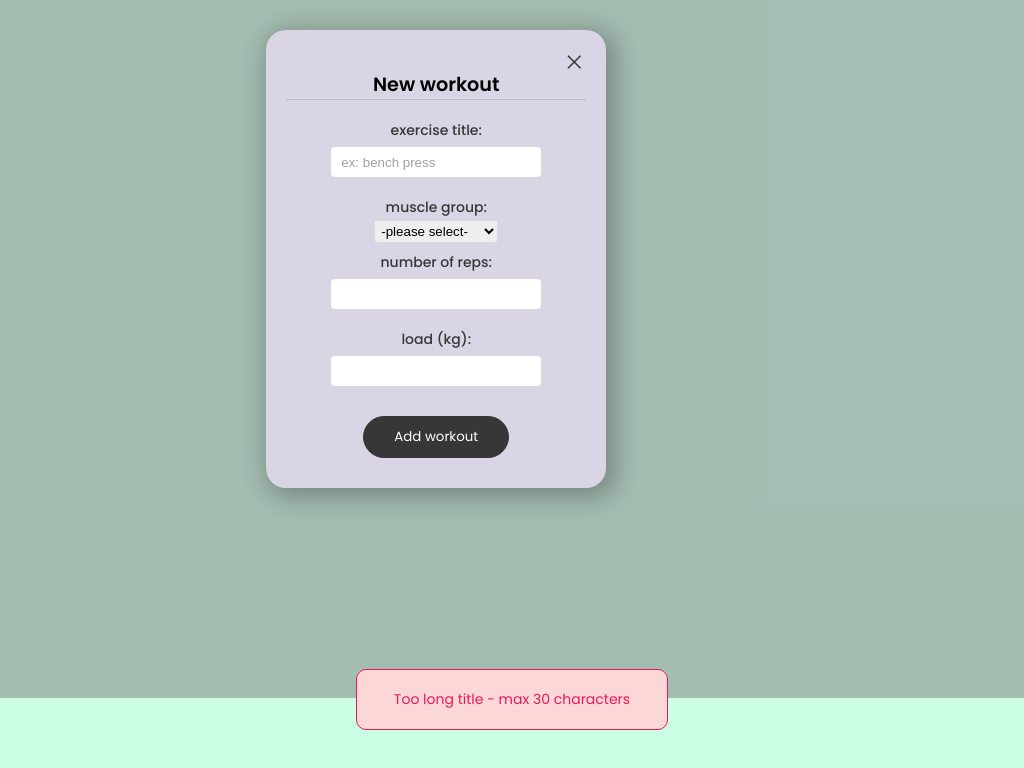
Test case: <WorkoutForm/> › should signal input error if title contains non-alphabetic characters
Type "66768^&^*&%<>*" into the field with test id "title" at coordinates (436, 162), box [331,147,541,177]
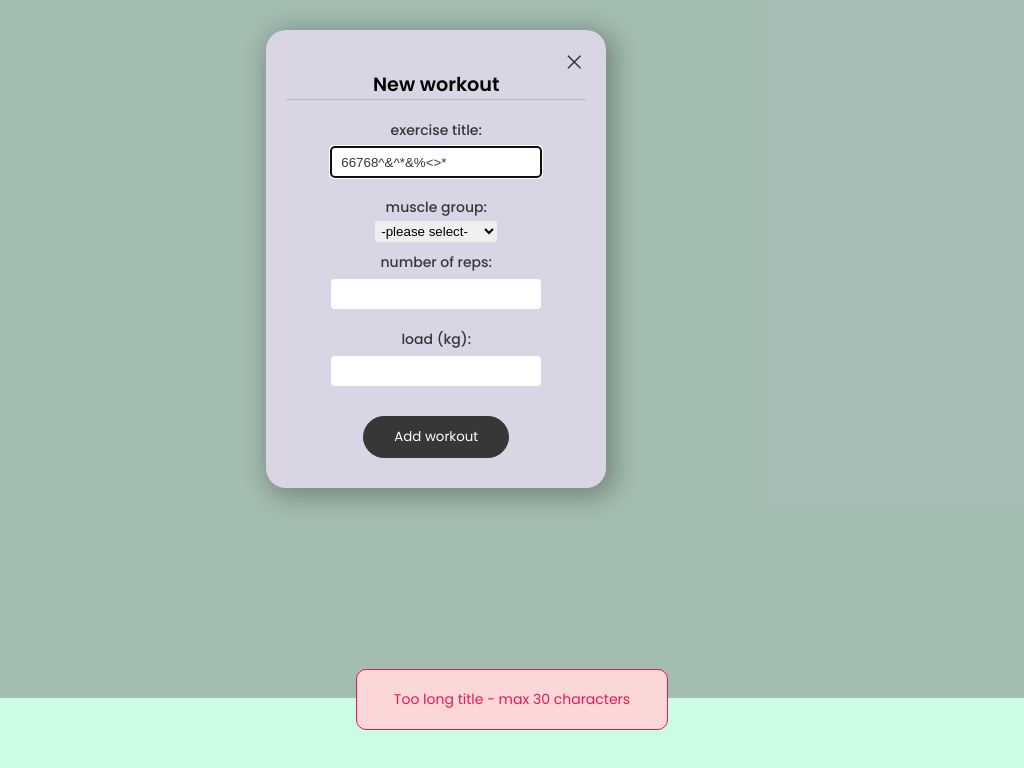
Select "biceps" in the dropdown with test id "muscle_group" at coordinates (436, 232), box [375,221,497,242]
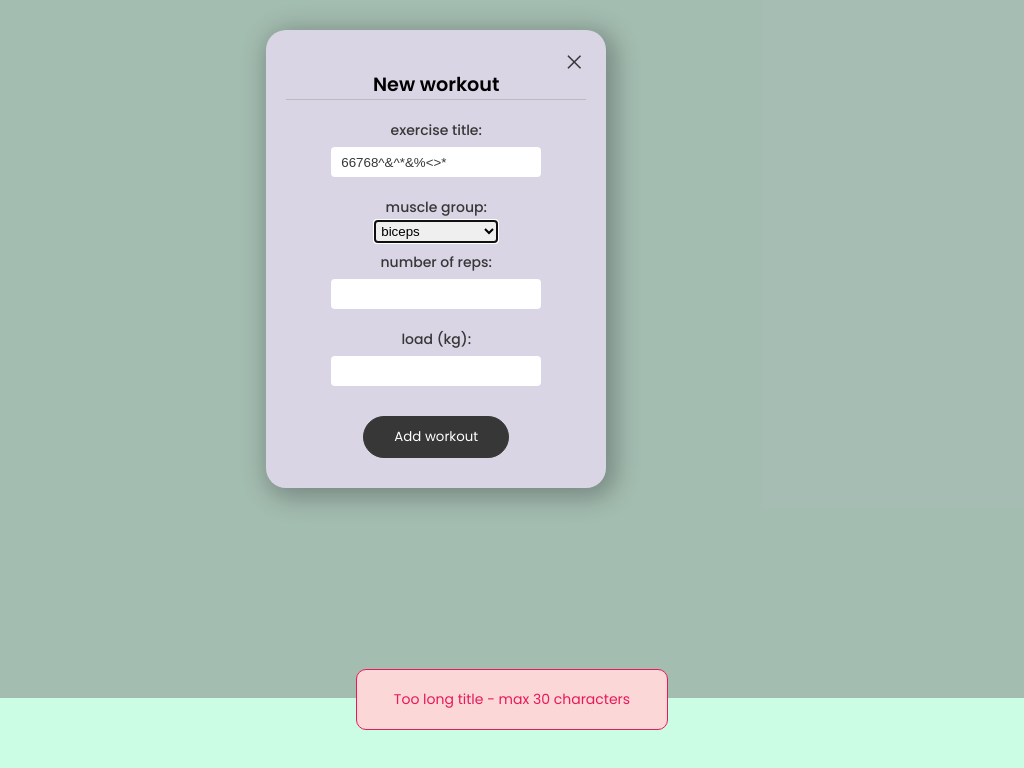
Type "22" into the number field with test id "reps" at coordinates (436, 294), box [331,279,541,309]
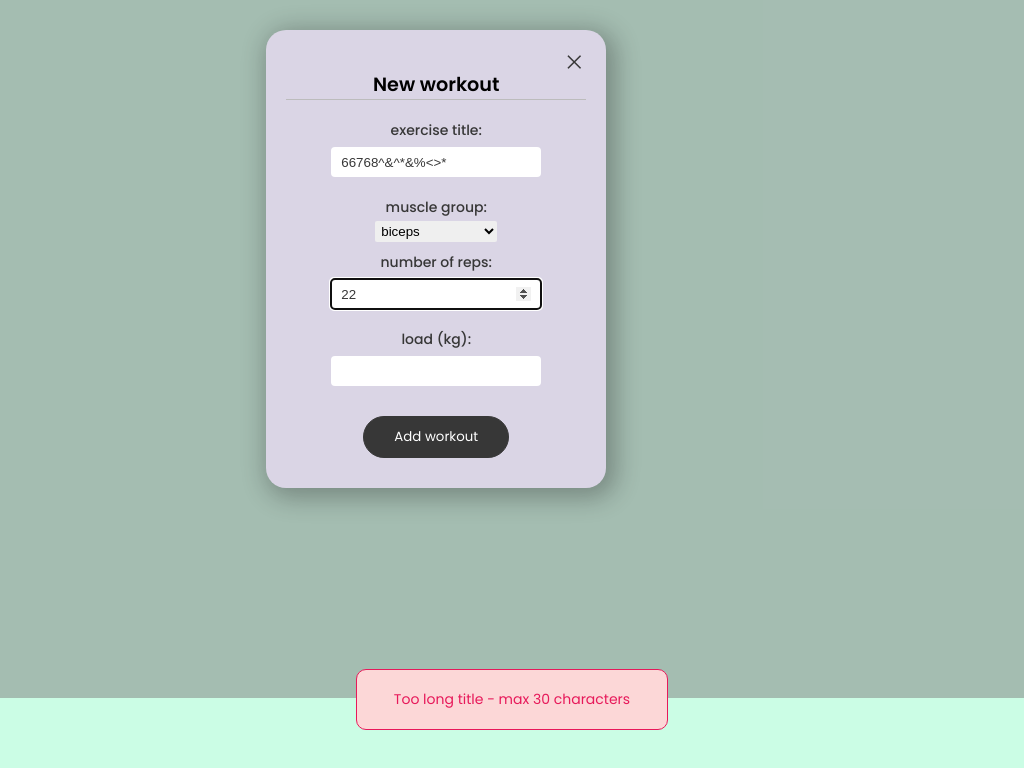
Type "22" into the number field with test id "load" at coordinates (436, 371), box [331,356,541,386]
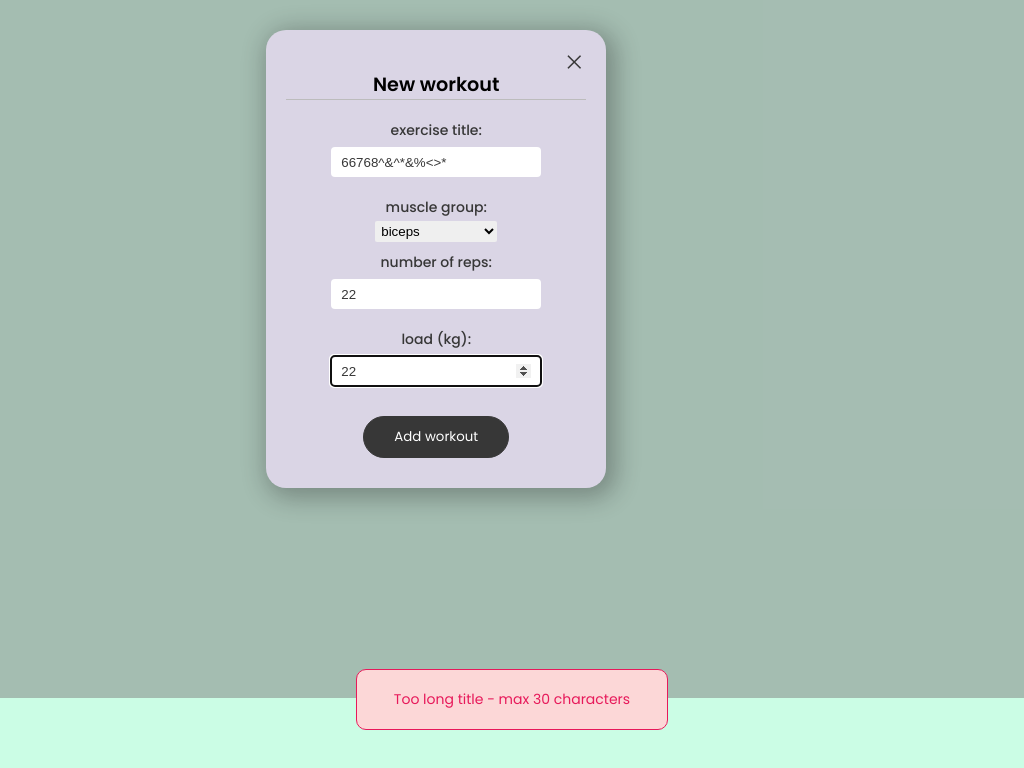
Click the button "Add workout" at coordinates (436, 437), box [363,416,509,458]
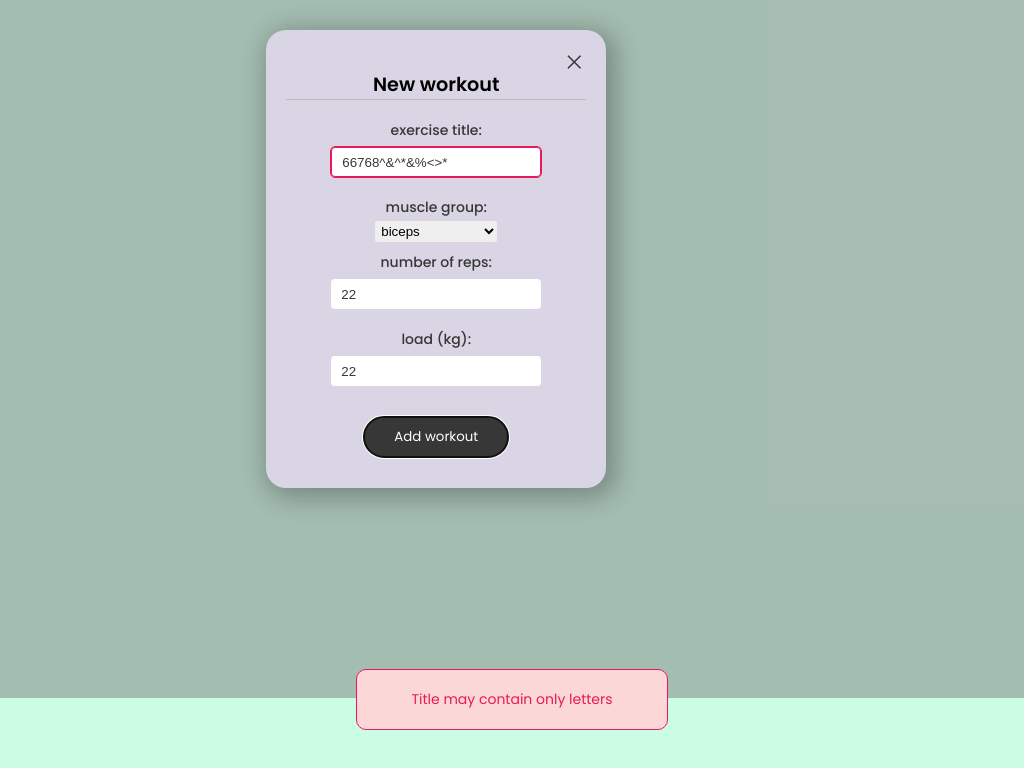
Expected: the message "Title may contain only letters" is shown, [356,669,668,730]
Now the message shows "may contain only letters", box [411,689,612,709]
